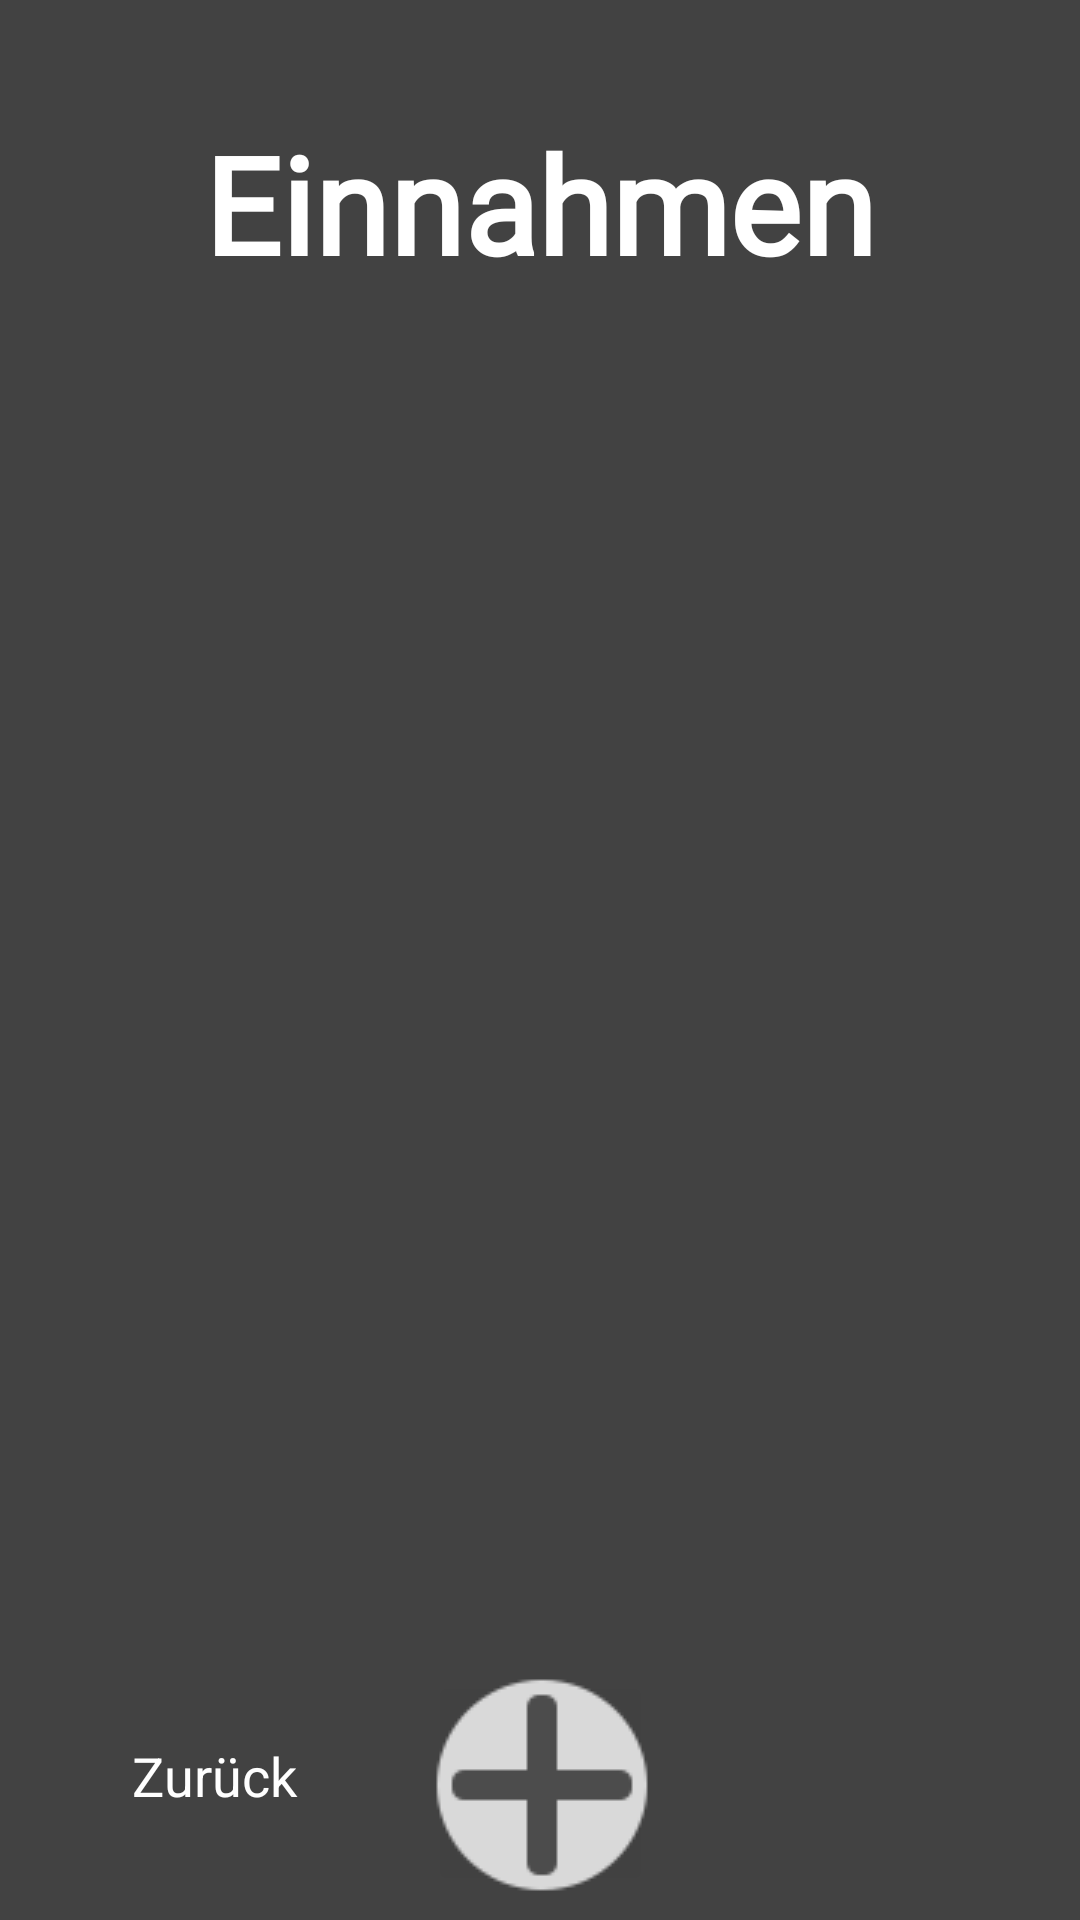

Screen size 1080px x 1920px. Icon name, then its center in pixels as point (x, y):
plus: point (542, 1785)
